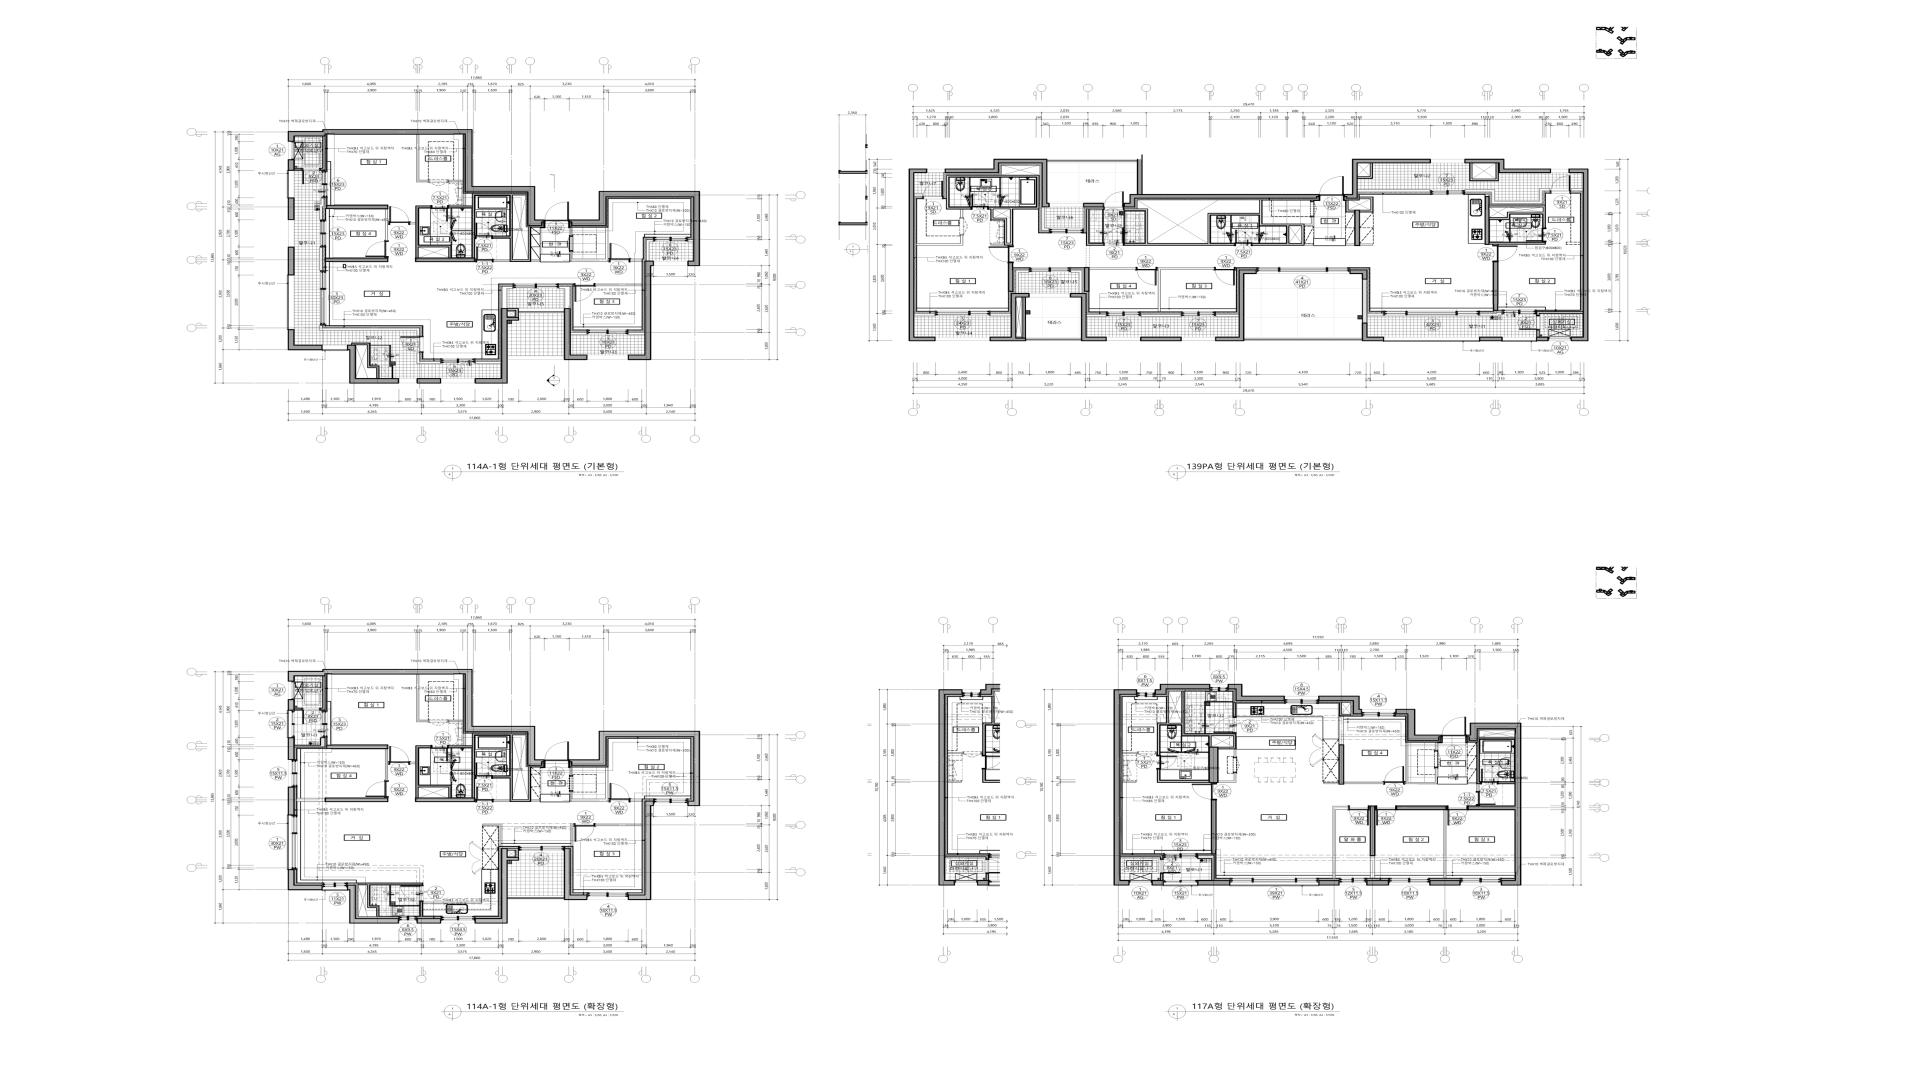door: (1441, 716, 1468, 744), (543, 742, 570, 769), (543, 203, 570, 228), (1319, 177, 1344, 200), (989, 245, 1014, 264), (1447, 806, 1469, 825), (1375, 806, 1398, 825), (608, 783, 630, 803), (608, 243, 630, 262), (1192, 783, 1217, 800), (1493, 245, 1518, 262), (1349, 806, 1370, 825), (1215, 266, 1236, 286), (1137, 266, 1158, 286), (1383, 766, 1406, 785), (388, 207, 410, 225), (365, 781, 389, 798), (1104, 227, 1124, 247), (388, 746, 409, 765), (574, 823, 595, 841), (574, 284, 595, 302), (400, 886, 423, 902), (1213, 717, 1237, 733), (365, 241, 389, 257), (400, 336, 423, 352), (923, 181, 943, 199), (1551, 175, 1571, 194), (1104, 191, 1124, 210), (1519, 315, 1540, 331), (302, 167, 320, 185), (475, 762, 493, 779), (1234, 229, 1253, 247), (1160, 858, 1180, 874), (1156, 756, 1178, 770), (431, 745, 448, 762), (971, 194, 989, 210), (302, 708, 320, 724), (475, 787, 493, 803), (475, 247, 493, 262), (475, 223, 493, 239), (1476, 791, 1495, 806), (1526, 228, 1547, 241), (1481, 769, 1498, 785), (431, 206, 448, 222), (429, 179, 448, 186), (960, 219, 968, 235), (429, 720, 448, 725)
wall: (287, 669, 543, 766), (287, 129, 543, 225), (570, 731, 700, 806), (570, 191, 700, 266), (1124, 160, 1319, 207), (1466, 723, 1522, 886), (1124, 200, 1313, 245), (945, 175, 1039, 245), (448, 194, 539, 262), (448, 733, 539, 802), (1156, 691, 1237, 757), (944, 158, 1050, 207), (1113, 690, 1137, 886), (909, 169, 935, 342), (1344, 158, 1431, 199), (475, 848, 520, 924), (1569, 169, 1589, 342), (475, 309, 520, 384), (1216, 269, 1257, 342), (628, 800, 654, 901), (628, 261, 654, 360), (1158, 268, 1215, 311), (409, 745, 452, 798), (359, 882, 423, 916), (410, 206, 452, 257), (347, 885, 400, 924), (347, 345, 400, 384), (989, 293, 1030, 342), (1069, 293, 1106, 342), (1395, 709, 1441, 741), (1465, 189, 1551, 204), (1406, 742, 1437, 785), (1490, 204, 1545, 228), (570, 767, 608, 802), (570, 228, 608, 262), (564, 848, 588, 901), (1465, 158, 1551, 173), (564, 309, 587, 360), (1333, 806, 1349, 878), (319, 326, 419, 336), (351, 343, 380, 378), (1228, 684, 1284, 702), (1362, 280, 1383, 323), (1319, 696, 1362, 715), (287, 330, 322, 351), (287, 869, 322, 890), (1156, 770, 1208, 783), (1087, 210, 1104, 245), (1155, 684, 1211, 695), (1468, 742, 1480, 791), (417, 675, 429, 723), (417, 135, 429, 182), (1469, 164, 1499, 182), (1338, 703, 1352, 744), (916, 235, 963, 245), (1197, 855, 1215, 880), (483, 824, 501, 847), (1362, 323, 1385, 342), (1208, 746, 1218, 783), (1211, 800, 1217, 855), (1047, 160, 1137, 164), (326, 257, 388, 262), (1493, 262, 1499, 311), (294, 737, 324, 748), (327, 204, 388, 210), (415, 257, 475, 262), (1245, 338, 1362, 340), (1015, 270, 1029, 293), (1071, 270, 1083, 293), (501, 286, 513, 309), (1370, 806, 1375, 856), (1485, 196, 1490, 245), (417, 353, 440, 364), (324, 798, 388, 802), (326, 745, 388, 749), (559, 286, 570, 309), (415, 798, 475, 802), (1360, 196, 1374, 212), (1358, 164, 1373, 179), (1490, 241, 1545, 245), (508, 895, 563, 899), (1197, 880, 1230, 886), (1338, 744, 1344, 785), (1141, 336, 1182, 342), (1429, 880, 1461, 886), (1218, 773, 1237, 783), (1354, 210, 1360, 247), (1349, 269, 1367, 280), (1398, 806, 1447, 810), (1358, 190, 1431, 193), (287, 247, 294, 276), (1042, 207, 1050, 231), (1536, 311, 1582, 315), (287, 787, 294, 815), (1007, 264, 1014, 291), (320, 676, 326, 711), (1444, 811, 1447, 878), (320, 137, 326, 170), (1121, 855, 1163, 858), (1366, 880, 1390, 886), (287, 198, 294, 220), (287, 737, 294, 760), (1026, 338, 1081, 340), (646, 240, 653, 261), (1319, 880, 1340, 886), (417, 378, 442, 384), (417, 918, 442, 923), (1084, 266, 1089, 291), (1089, 268, 1137, 270), (595, 284, 642, 286), (1480, 336, 1503, 342), (319, 198, 324, 220), (1370, 856, 1375, 878), (297, 798, 324, 802), (1345, 200, 1354, 212), (1141, 314, 1182, 316), (1023, 298, 1026, 338), (1345, 782, 1383, 785), (508, 309, 518, 318), (508, 848, 518, 857), (319, 247, 323, 270), (1480, 737, 1515, 740), (1480, 313, 1502, 316), (1151, 880, 1164, 886), (385, 210, 388, 241), (385, 749, 388, 781), (1083, 203, 1104, 207), (287, 160, 294, 171), (287, 699, 294, 711), (475, 361, 501, 364), (1536, 336, 1549, 342), (595, 824, 642, 825), (1216, 314, 1238, 316), (571, 824, 574, 847), (419, 902, 423, 916), (1233, 703, 1237, 717), (914, 314, 935, 316), (1087, 314, 1106, 316), (990, 314, 1010, 316), (630, 258, 642, 262), (571, 332, 587, 335), (1122, 752, 1138, 754), (1499, 782, 1515, 785), (1324, 782, 1338, 785), (448, 720, 463, 723), (1122, 781, 1137, 783), (1571, 189, 1582, 191), (630, 799, 642, 802), (914, 194, 923, 196), (1469, 243, 1485, 244), (1536, 331, 1540, 336), (570, 228, 572, 236), (294, 167, 302, 170), (570, 767, 572, 775), (1435, 742, 1437, 750), (448, 181, 463, 182), (295, 708, 302, 711), (1361, 244, 1373, 245), (688, 240, 694, 243), (1160, 874, 1163, 880), (1346, 244, 1354, 245), (1485, 194, 1489, 196)
window: (1230, 878, 1319, 886), (286, 815, 298, 869), (1257, 268, 1349, 274), (1383, 311, 1480, 316), (286, 276, 294, 330), (1385, 338, 1480, 342), (518, 845, 564, 853), (320, 270, 326, 326), (1284, 696, 1319, 704), (587, 893, 628, 899), (1461, 878, 1501, 885), (1390, 878, 1429, 885), (654, 798, 687, 806), (1362, 709, 1395, 717), (289, 760, 298, 787), (513, 284, 559, 289), (286, 711, 295, 737), (518, 309, 563, 314), (935, 311, 990, 315), (508, 356, 563, 360), (323, 882, 347, 891), (1164, 880, 1197, 886), (442, 916, 475, 923), (587, 355, 628, 360), (587, 330, 628, 335), (286, 171, 294, 198), (1050, 228, 1084, 233), (1431, 190, 1465, 195), (1182, 311, 1216, 316), (1106, 311, 1141, 316), (1163, 853, 1197, 858), (440, 359, 475, 364), (1502, 310, 1536, 315), (442, 378, 475, 384), (654, 261, 687, 266), (1340, 878, 1366, 885), (320, 711, 327, 737), (1030, 268, 1071, 272), (1137, 690, 1155, 698), (653, 237, 688, 241), (936, 338, 989, 340), (289, 220, 294, 247), (322, 171, 327, 198), (320, 220, 326, 247), (1211, 684, 1228, 692), (1431, 160, 1465, 164), (322, 345, 347, 351), (1050, 203, 1083, 207), (1503, 338, 1536, 342), (400, 916, 417, 923), (1130, 880, 1151, 885), (1549, 336, 1571, 342), (1030, 294, 1069, 297), (1182, 338, 1216, 340), (1106, 338, 1141, 340), (400, 378, 417, 384), (289, 682, 294, 699), (289, 142, 294, 160), (1551, 169, 1569, 173), (927, 169, 944, 173)
